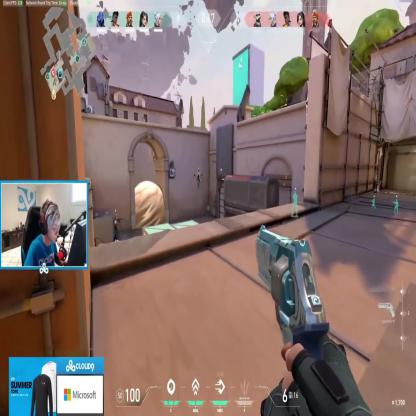enemy: (194, 166, 202, 190)
enemy_head: (198, 166, 200, 172)
